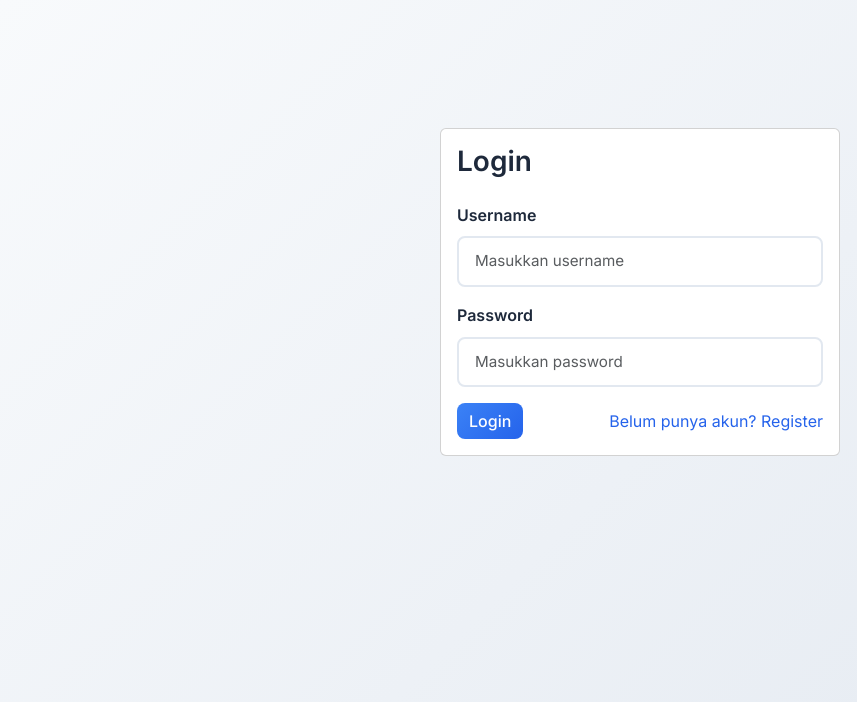
Test: Login Component › shows error when username is empty
In the password field labelled "Password": (640, 362) [457,337,823,387], type "password123"
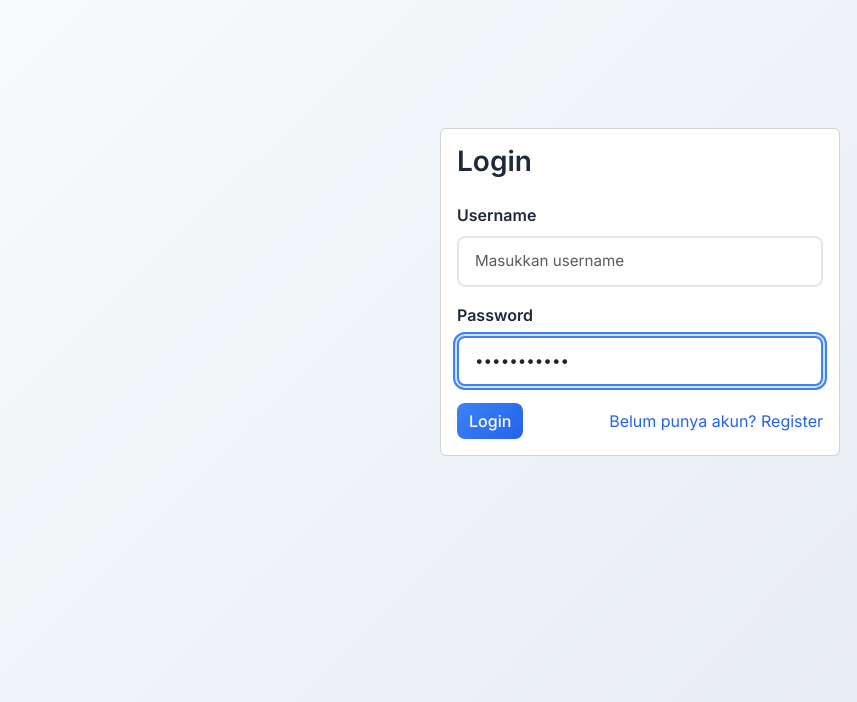
Click the button "Login": (490, 421) [457,403,523,439]
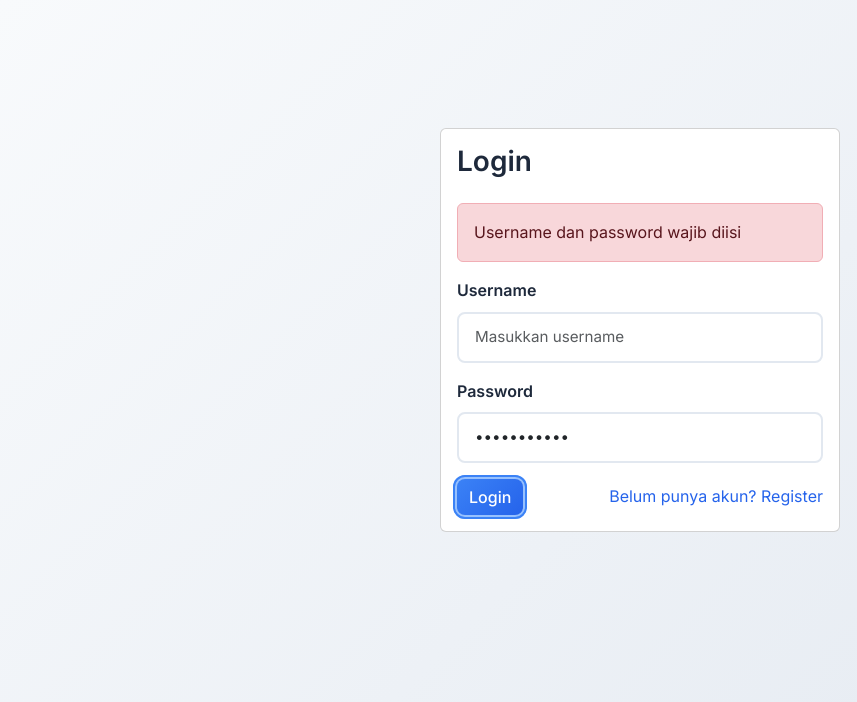
Expected: the text "Username dan password wajib diisi" is shown, [457,203,823,262]
